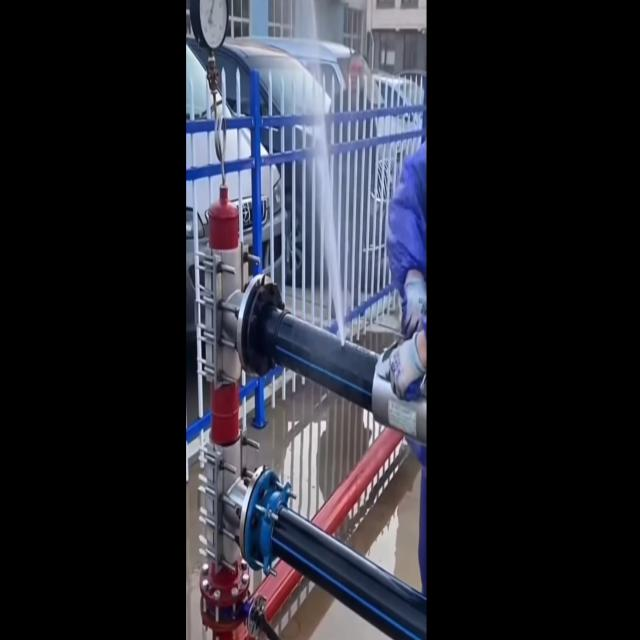leak: (315, 116, 345, 344)
